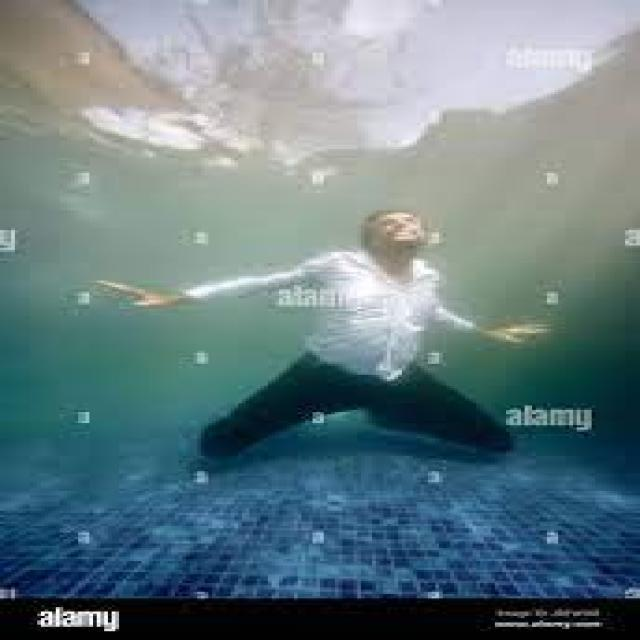Drowning: (94, 202, 561, 464)
